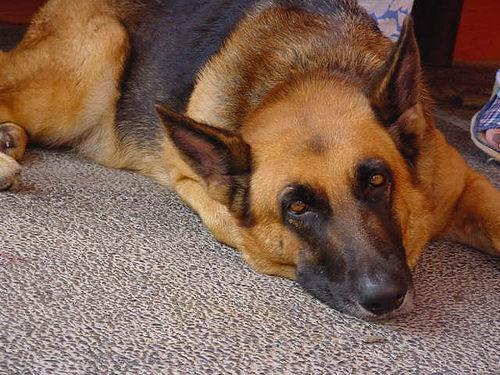German_shepherd: (0, 0, 498, 321)
